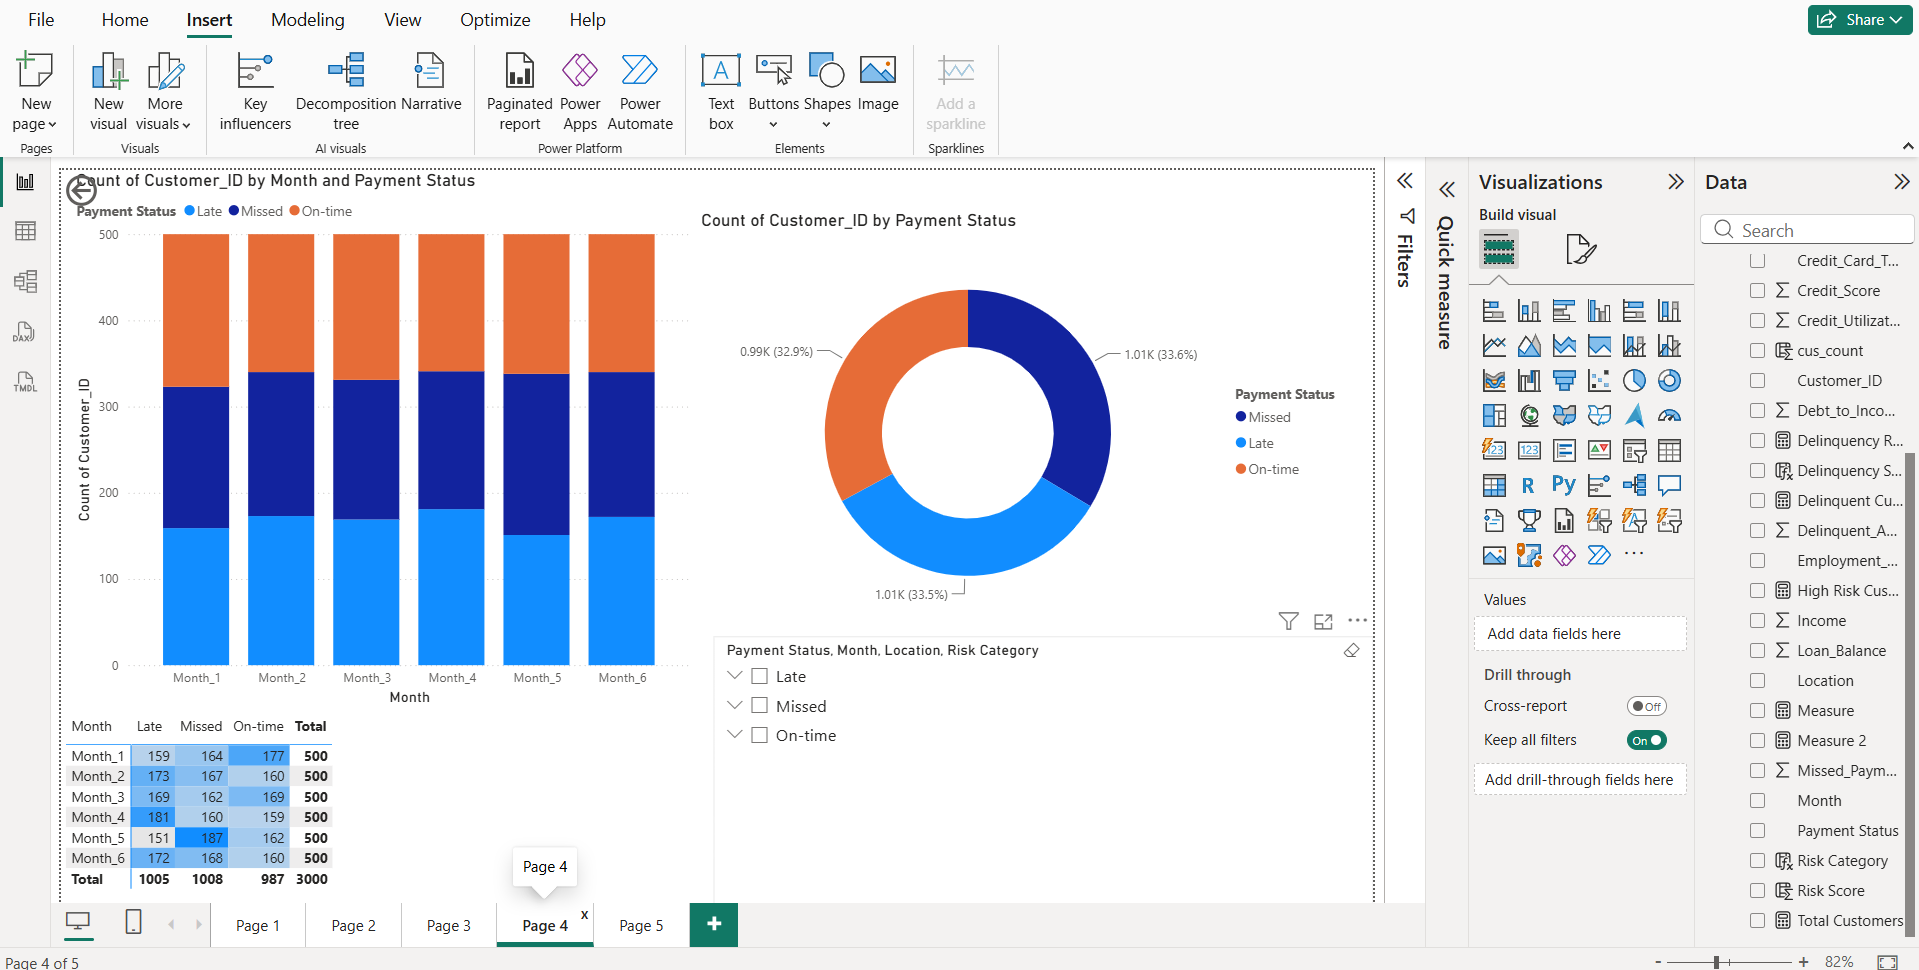

The page's visual inventory and layout, read from the dashboard file:
{"tool":"powerbi","page":{"name":"Page 4","canvas":[1280,720],"ordinal":3},"visuals":[{"type":"columnChart","fields":{"Category":["Delinquency_prediction_dataset.Month"],"Y":["CountNonNull(Delinquency_prediction_dataset.Customer_ID)"],"Series":["Delinquency_prediction_dataset.Payment Status"]},"box":[9.8,0,609.8,526.8],"z":0},{"type":"donutChart","fields":{"Category":["Delinquency_prediction_dataset.Payment Status"],"Y":["CountNonNull(Delinquency_prediction_dataset.Customer_ID)"]},"box":[619.5,39,643.9,415.9],"z":1000},{"type":"pivotTable","fields":{"Rows":["Delinquency_prediction_dataset.Month"],"Columns":["Delinquency_prediction_dataset.Payment Status"],"Values":["CountNonNull(Delinquency_prediction_dataset.Customer_ID)"]},"box":[0,526.8,619.5,192.7],"z":2000},{"type":"slicer","fields":{"Values":["Delinquency_prediction_dataset.Payment Status","Delinquency_prediction_dataset.Month","Delinquency_prediction_dataset.Location","Delinquency_prediction_dataset.Risk Category"]},"box":[636.6,454.9,643.9,264.6],"z":3000},{"type":"actionButton","box":[0,0,100,40],"z":4000}]}

Visuals, with their boxes on the page's 1280x720 design canvas (x1, y1, x2, y2). These are canvas units, not pixel positions in the 1919x970 screenshot, which may show the page scaled, cropped or inside an application window:
columnChart - Delinquency_prediction_dataset.Month x CountNonNull(Delinquency_prediction_dataset.Customer_ID): bbox(10, 0, 620, 527)
donutChart - Delinquency_prediction_dataset.Payment Status x CountNonNull(Delinquency_prediction_dataset.Customer_ID): bbox(620, 39, 1263, 455)
pivotTable - Delinquency_prediction_dataset.Month x Delinquency_prediction_dataset.Payment Status: bbox(0, 527, 620, 720)
slicer - Delinquency_prediction_dataset.Payment Status x Delinquency_prediction_dataset.Month: bbox(637, 455, 1280, 720)
actionButton: bbox(0, 0, 100, 40)
